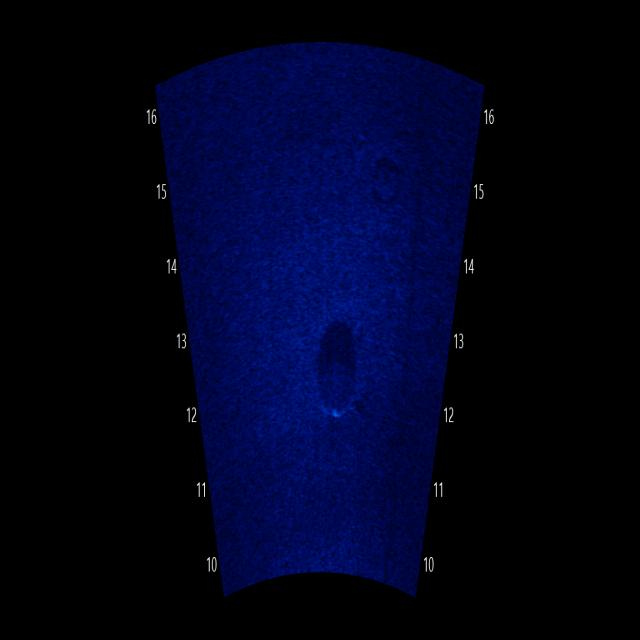circle: (298, 301, 368, 436), (362, 138, 405, 216)
